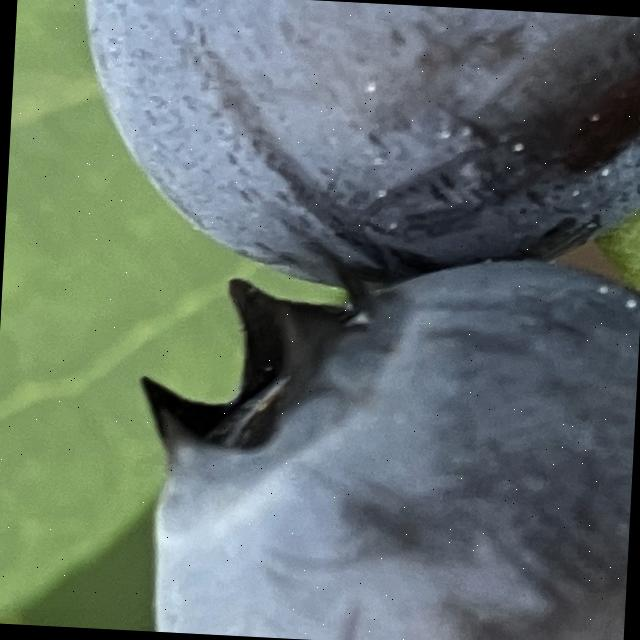Blueberries: (126, 236, 640, 640)
